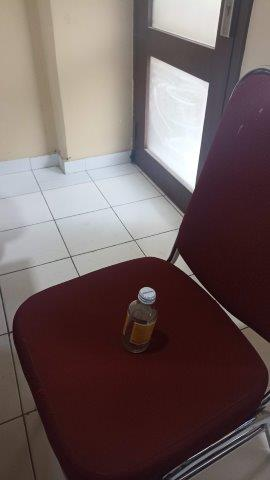botolkaca: (119, 287, 159, 354)
